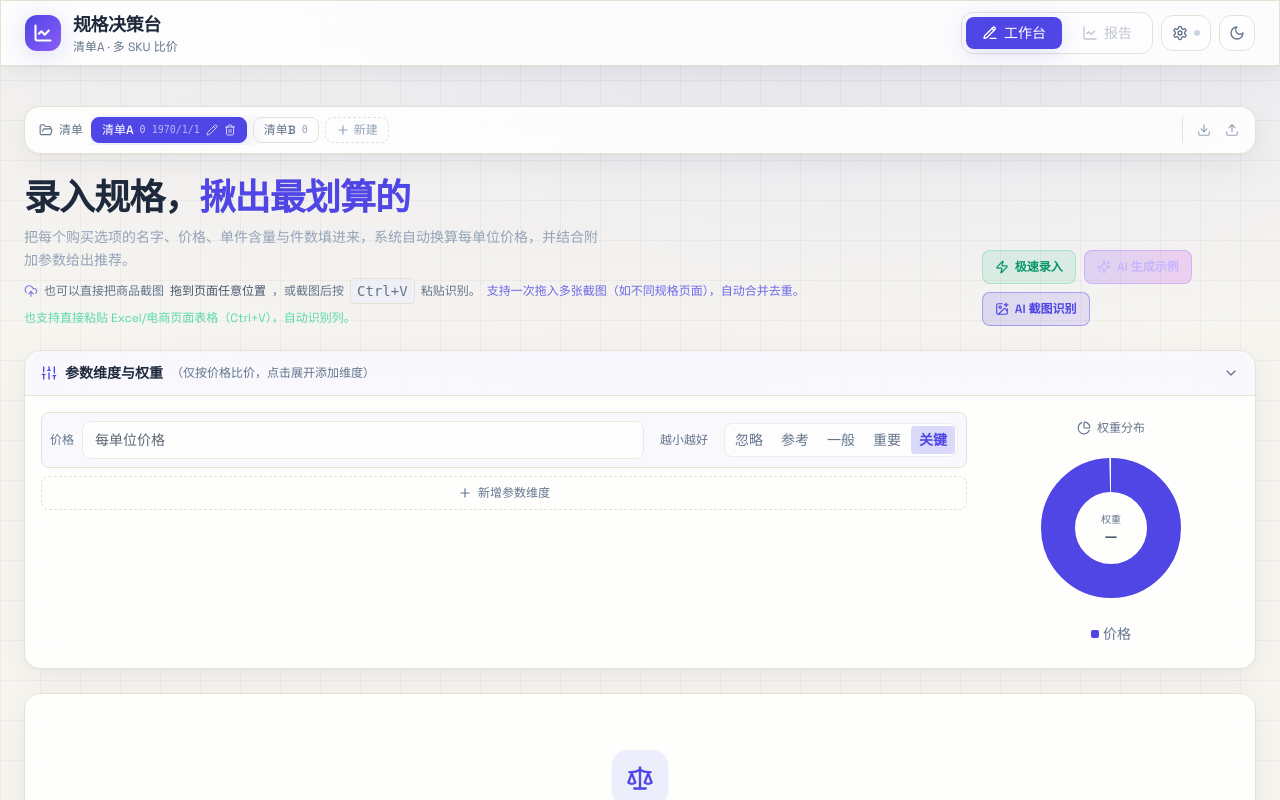
Test: App 撤销 toast › 关闭撤销提示后清单保持删除状态
This screenshot has width=1280, height=800.
Click the button named "删除清单": {"x": 230, "y": 130} [224,124,236,136]
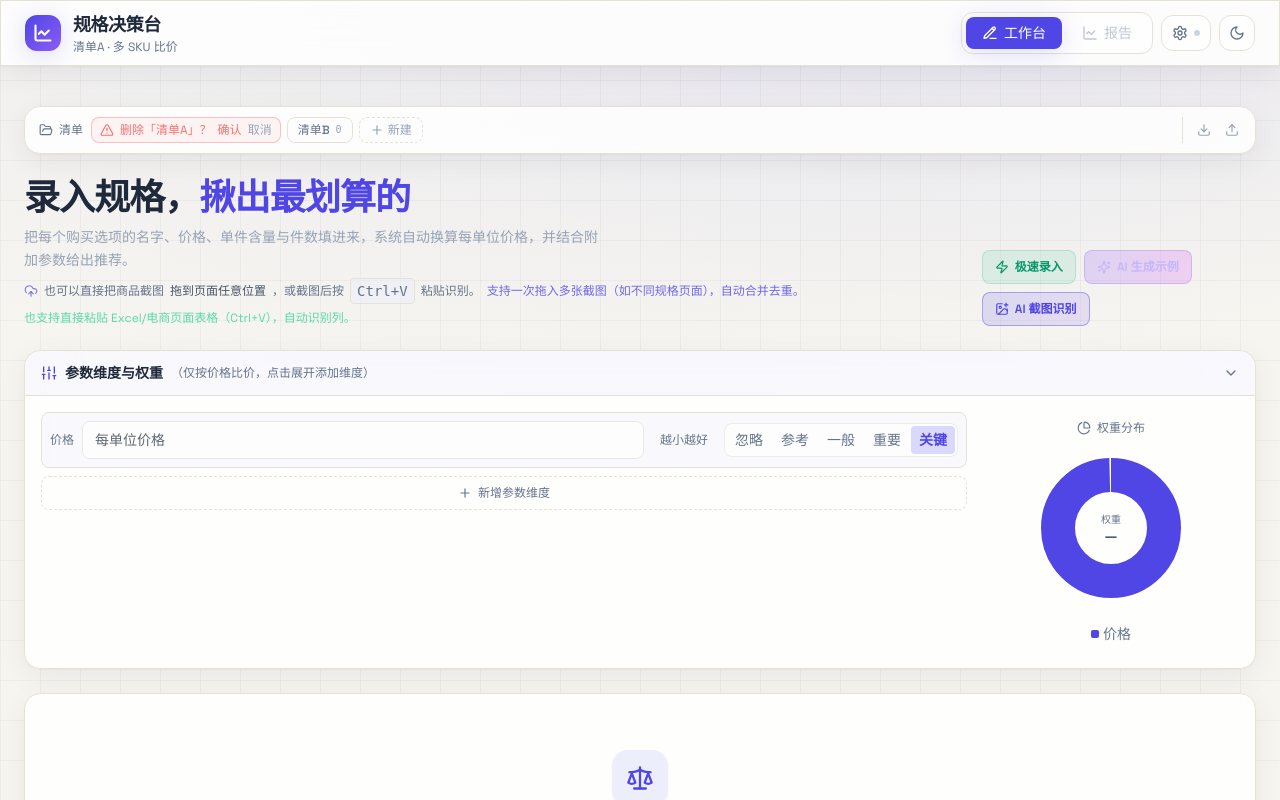
Click the button "确认": {"x": 230, "y": 130} [218,122,242,138]
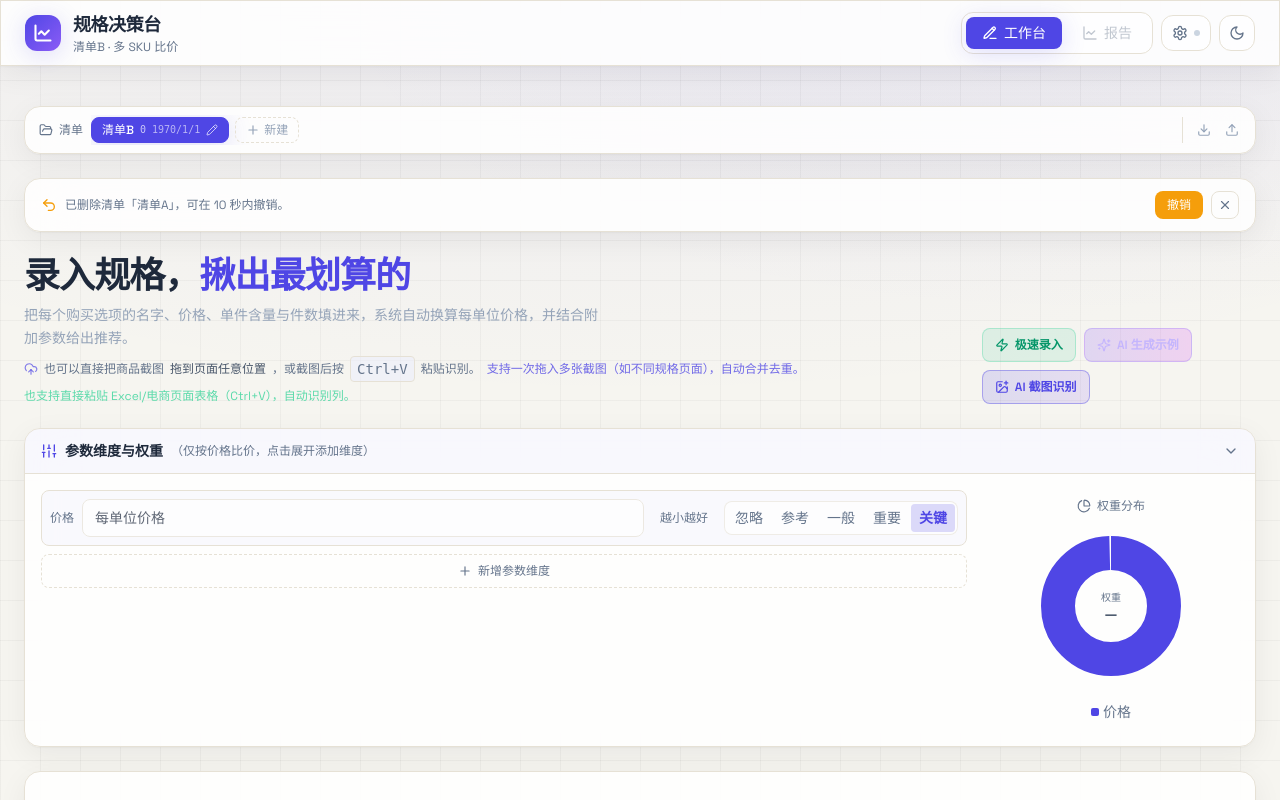
Check: the message "已删除清单「清单A」，可在 10 秒内撤销。 撤销" is shown, box [24,178,1256,232]
Click the button named "关闭撤销提示": {"x": 1225, "y": 205} [1211,191,1239,219]
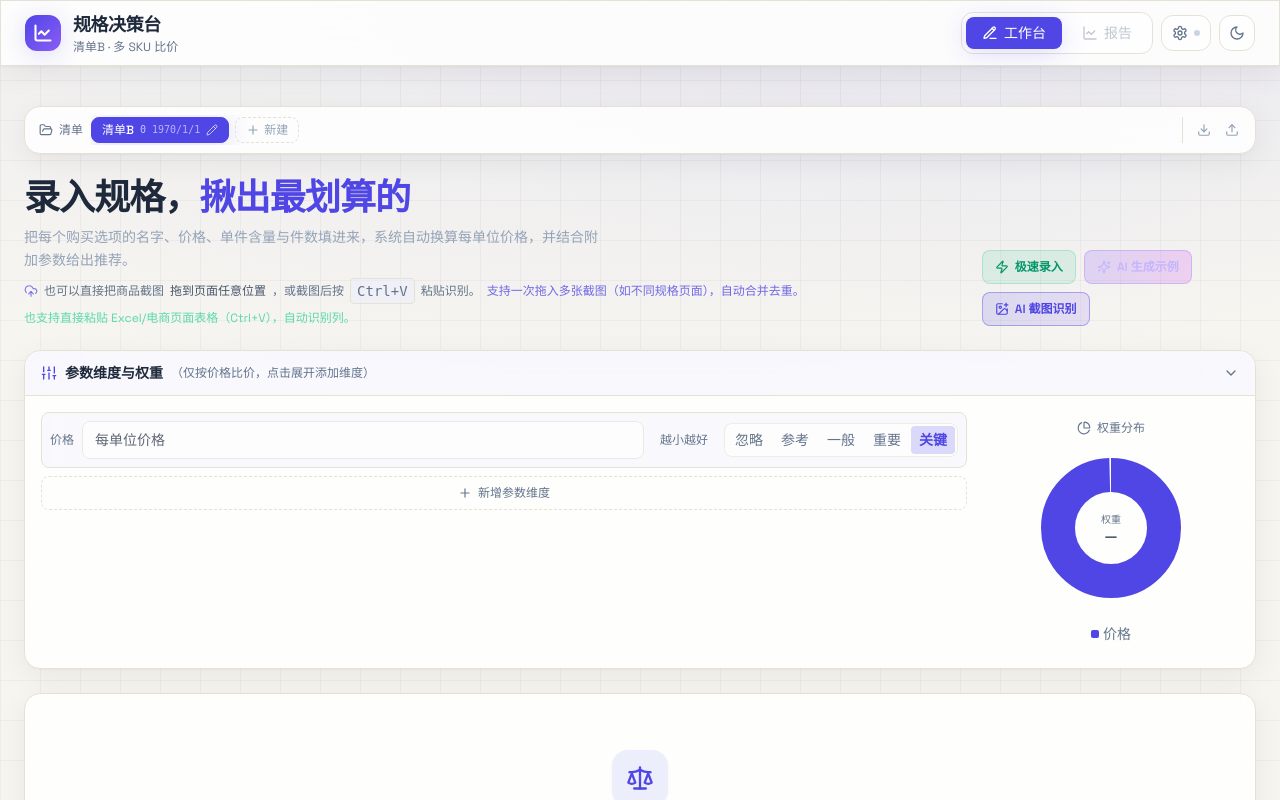
Check: the message "已删除清单「清单A」，可在 10 秒内撤销。 撤销" is gone
Check: the text "清单A" is gone
